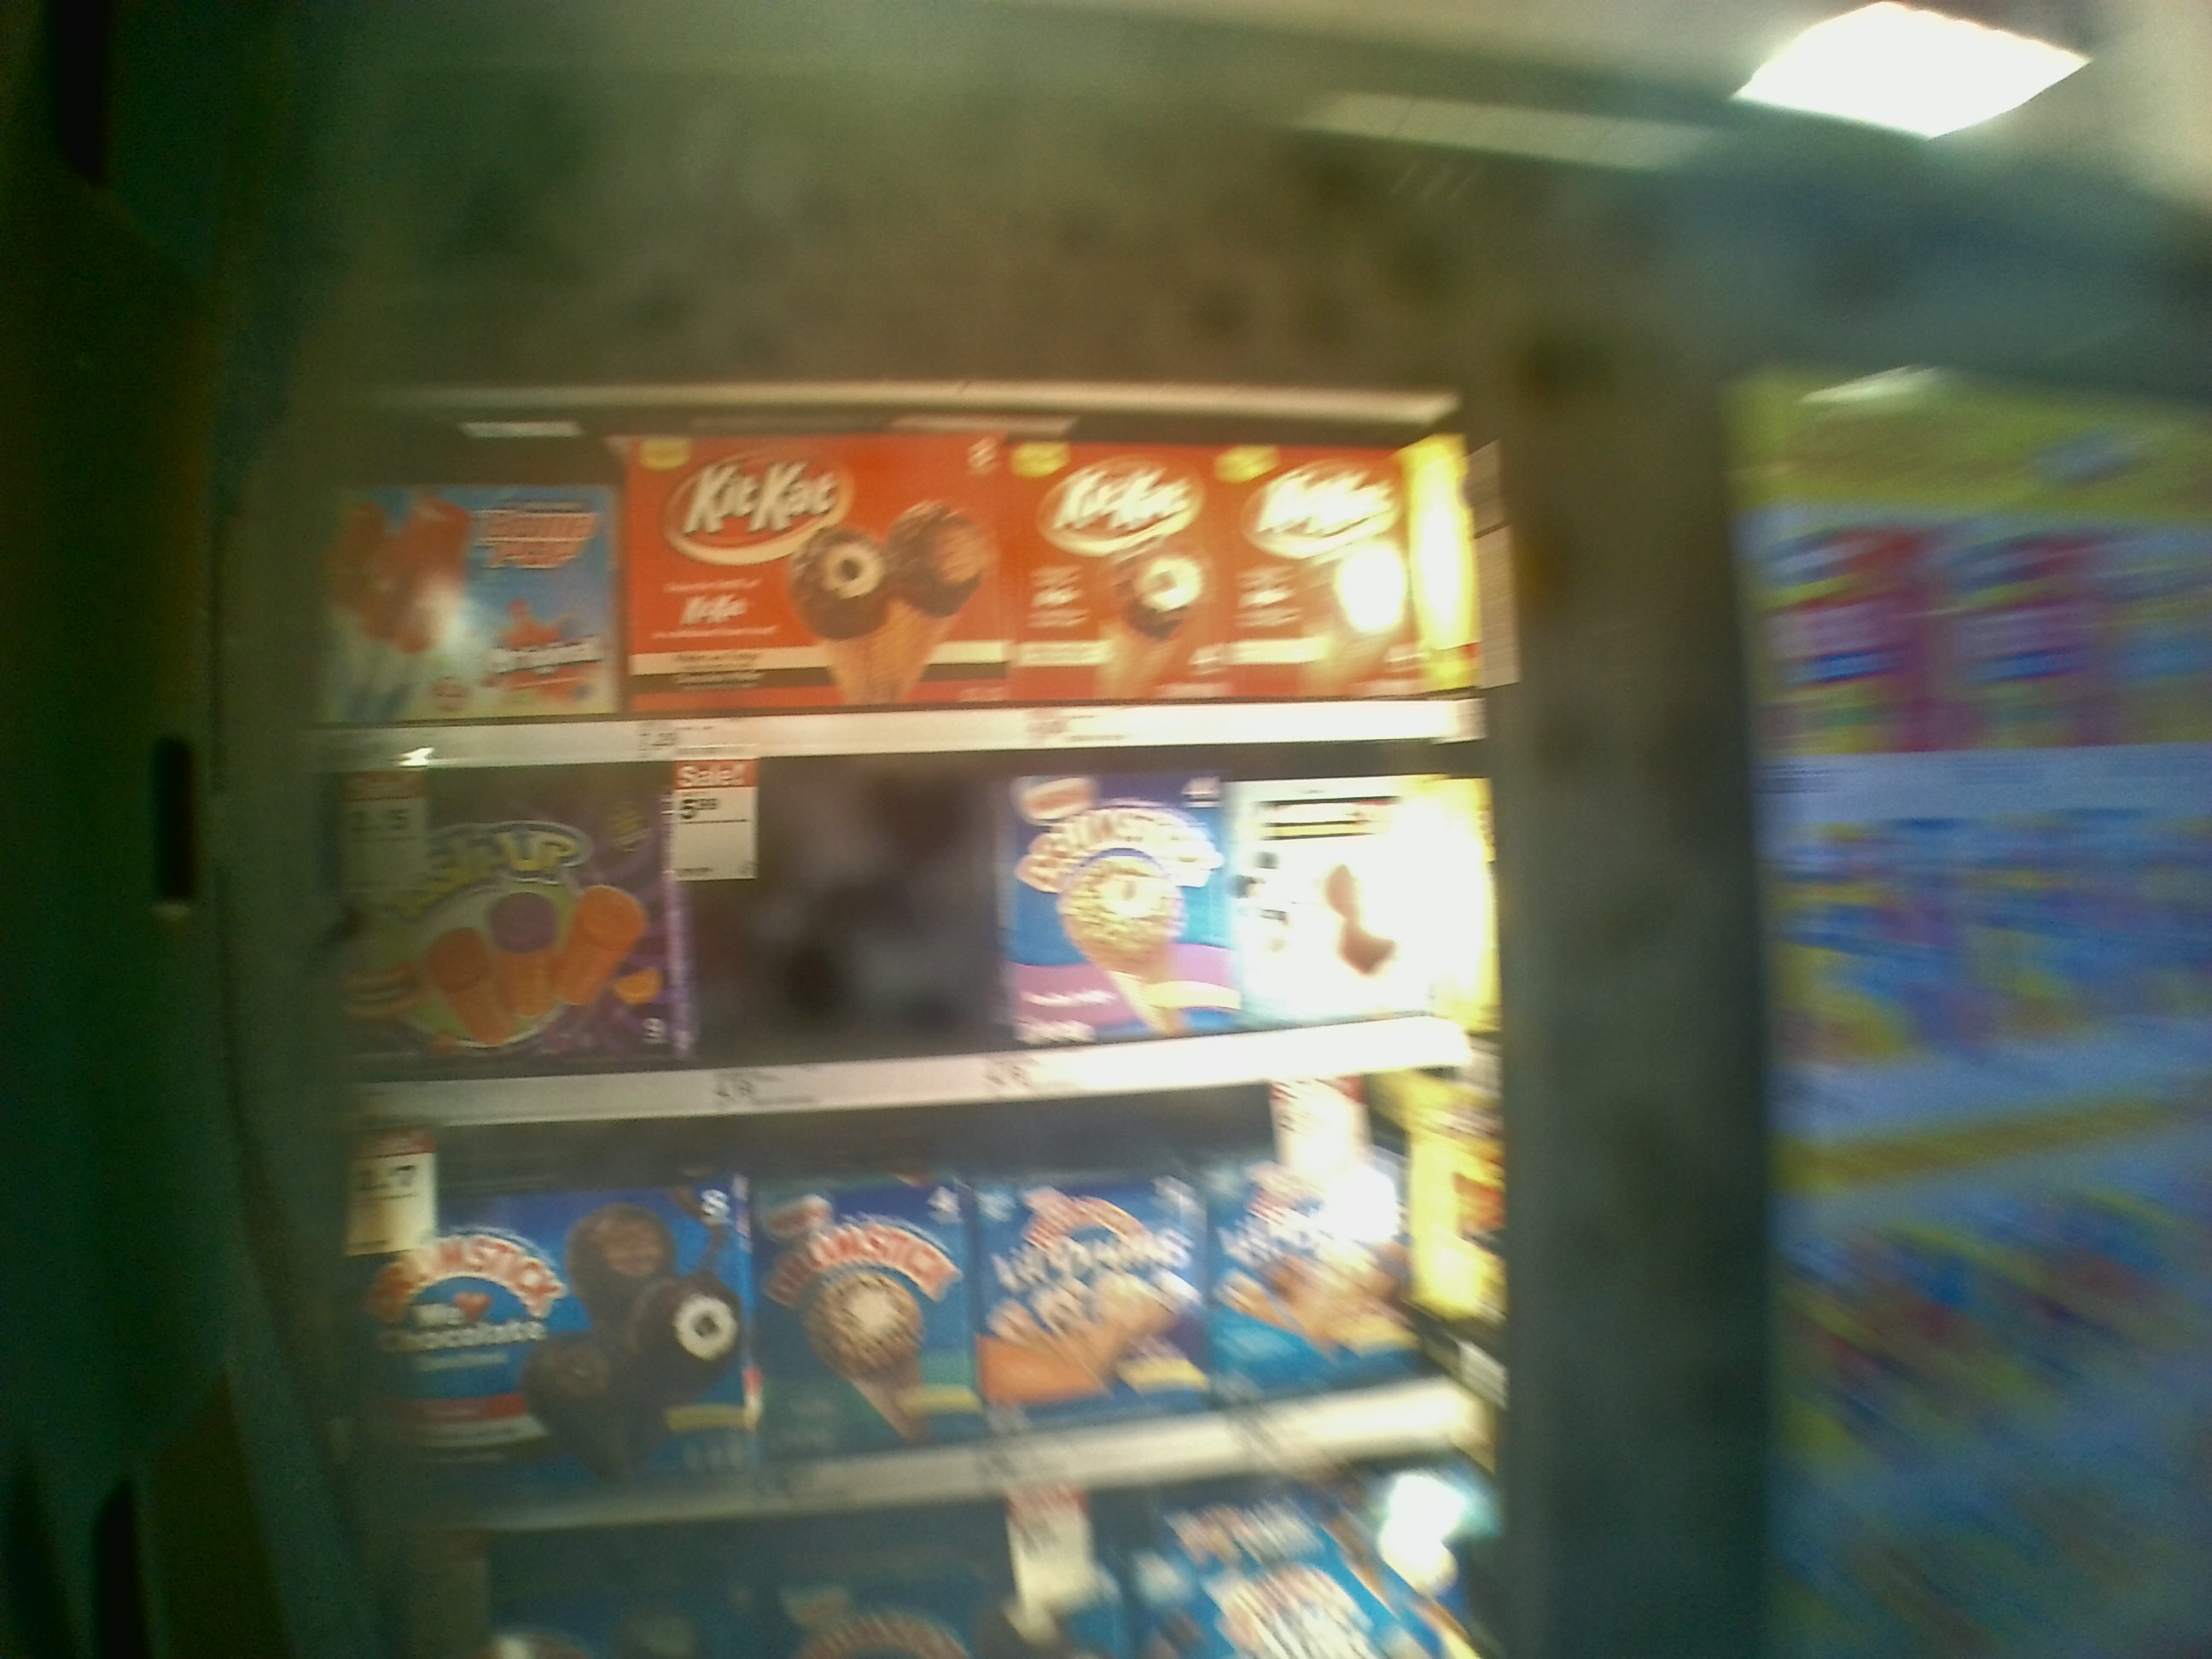shelf: (280, 739, 1503, 1127), (284, 390, 1496, 763)
